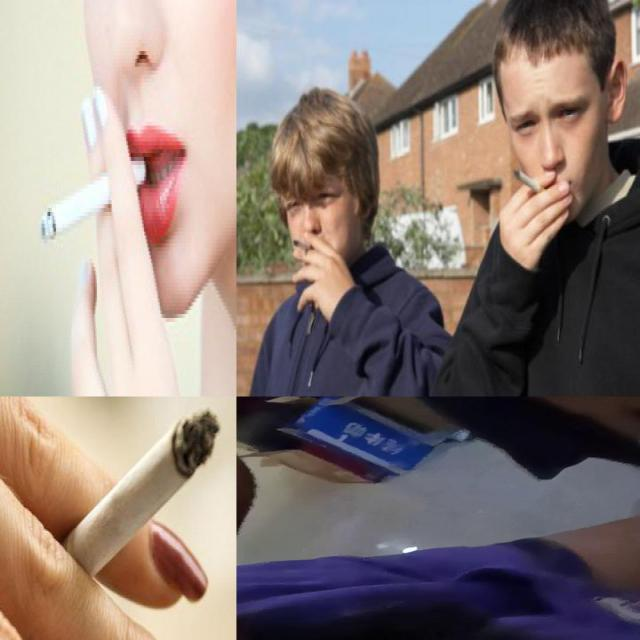smoking: (56, 406, 222, 572), (40, 154, 147, 244), (513, 168, 551, 200), (292, 239, 316, 252)
